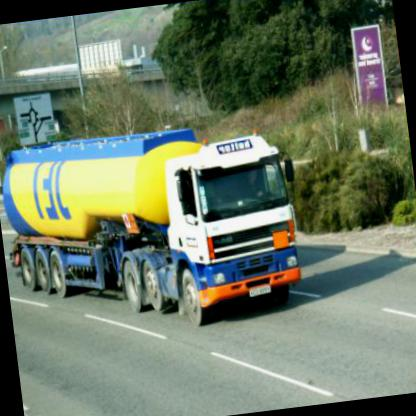truck: (0, 99, 316, 345)
